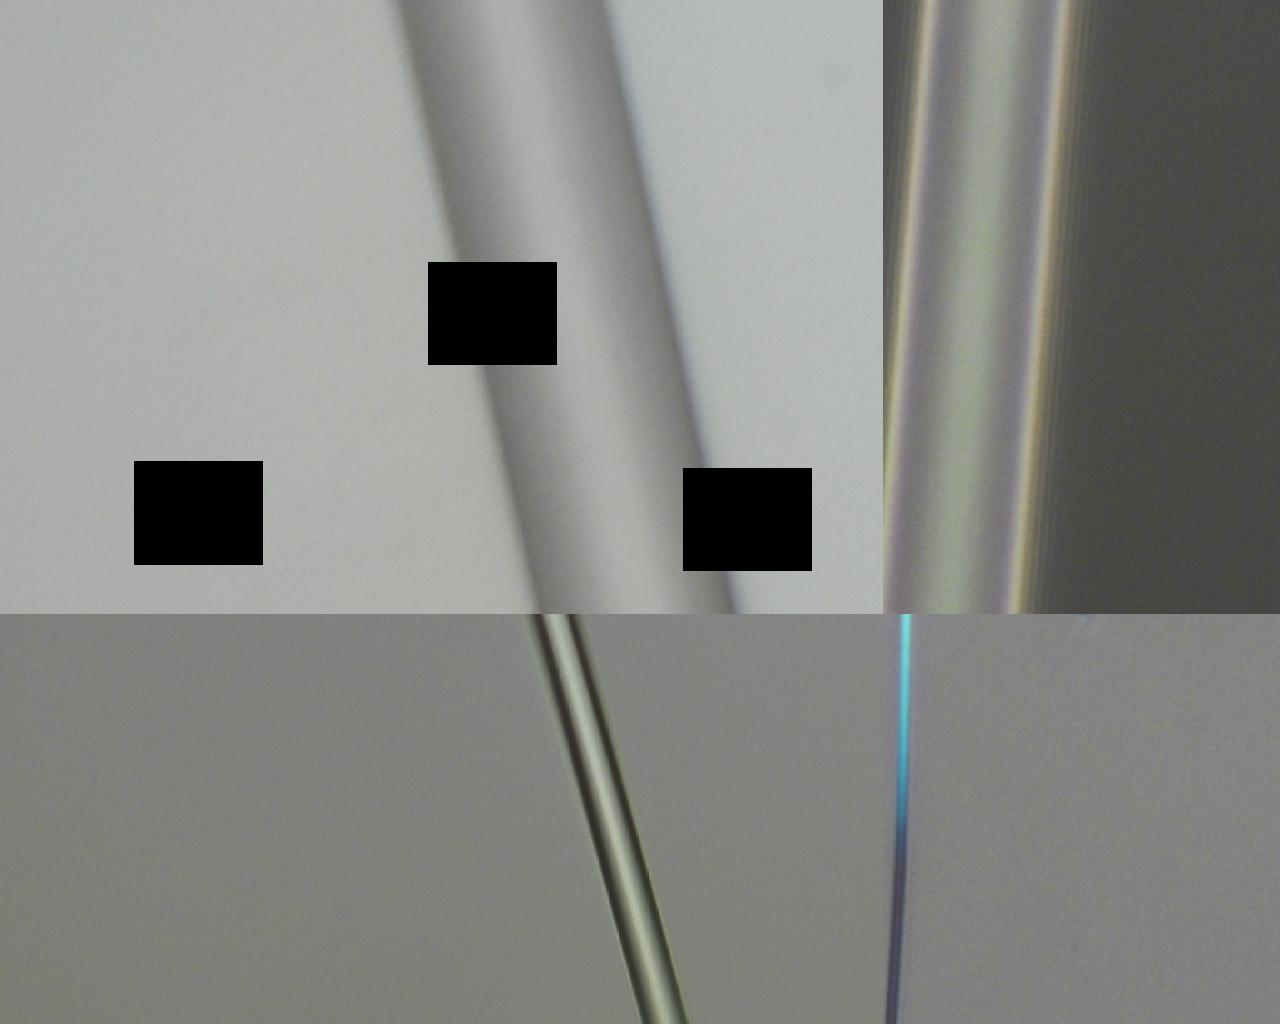fiber: (418, 0, 476, 1024)
